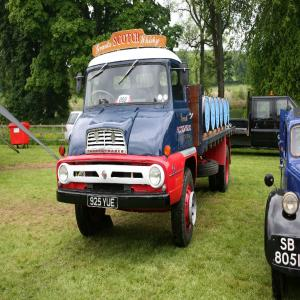Vehicle-registration-plate: (271, 235, 300, 272), (88, 197, 118, 210)
